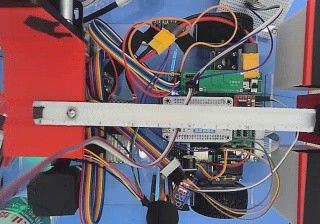ironball: (65, 108, 79, 119)
